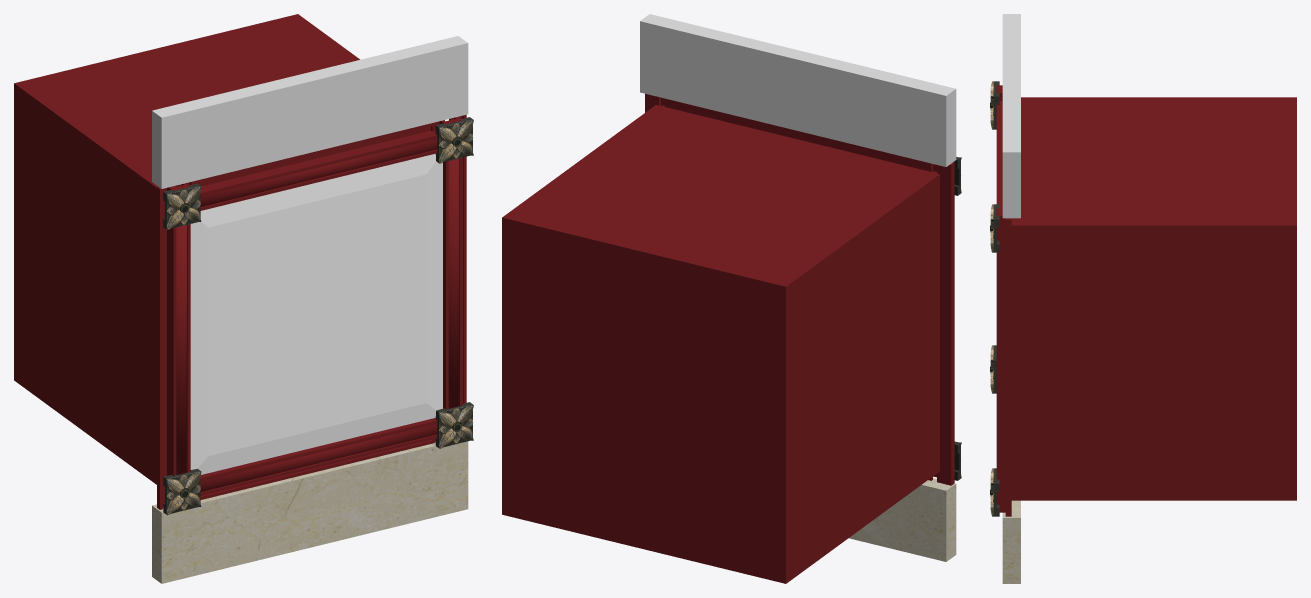
The model's file is untitled_RED.glb.
3 views of the same model, side by side, from view 1: azimuth 30°, elevation 25°; view 2: azimuth 150°, elevation 25°; view 3: azimuth 270°, elevation 25° (orthographic). The views are drawn at different scales.
Visible parts, largest first — view 1: Group#81, Group#1, Group#16.001, Group#16, Group#93, Group#85.001, Group#93.001, Group#85; view 2: Group#1, Group#8, Group#16.001, Group#16, Group#93, Group#85.001; view 3: Group#1, Group#93.001, Group#16.001, Group#16, Group#85.001.
Boxes of the visible parts, box(x1,y1,x2,y2) form: Group#81: box(190, 153, 442, 474); Group#1: box(14, 14, 359, 484); Group#16.001: box(152, 36, 468, 188); Group#16: box(152, 441, 468, 583); Group#93: box(157, 181, 194, 509); Group#85.001: box(194, 123, 437, 210); Group#93.001: box(431, 114, 466, 443); Group#85: box(200, 418, 437, 499); Group#1: box(502, 105, 939, 583); Group#8: box(505, 221, 783, 579); Group#16.001: box(640, 14, 956, 166); Group#16: box(849, 478, 956, 561); Group#93: box(917, 160, 954, 485); Group#85.001: box(679, 102, 917, 168); Group#1: box(1011, 97, 1296, 500); Group#93.001: box(996, 208, 1011, 516); Group#16.001: box(1002, 14, 1020, 218); Group#16: box(1002, 500, 1020, 583); Group#85.001: box(996, 101, 1002, 208).
Size of the model in its own units: 0.3429 by 0.4985 by 0.3212.
Materials: 8 (3 with a texture image).
